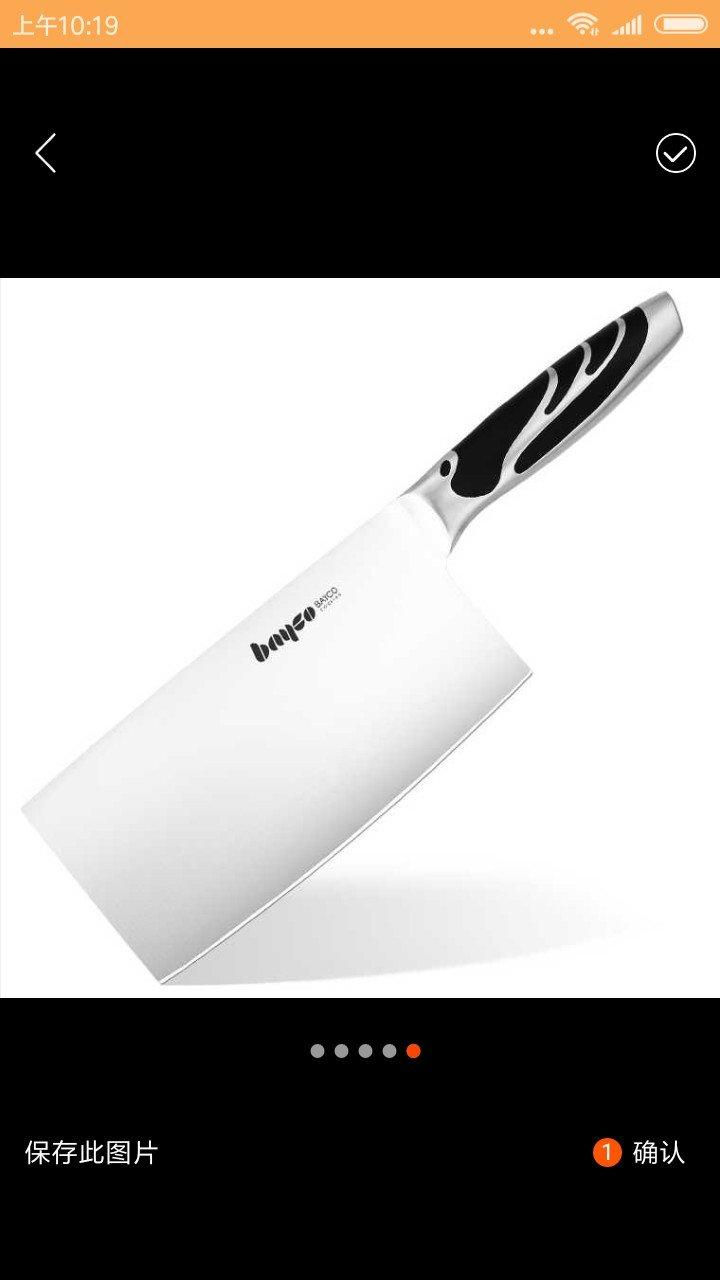knief: (81, 294, 674, 981)
